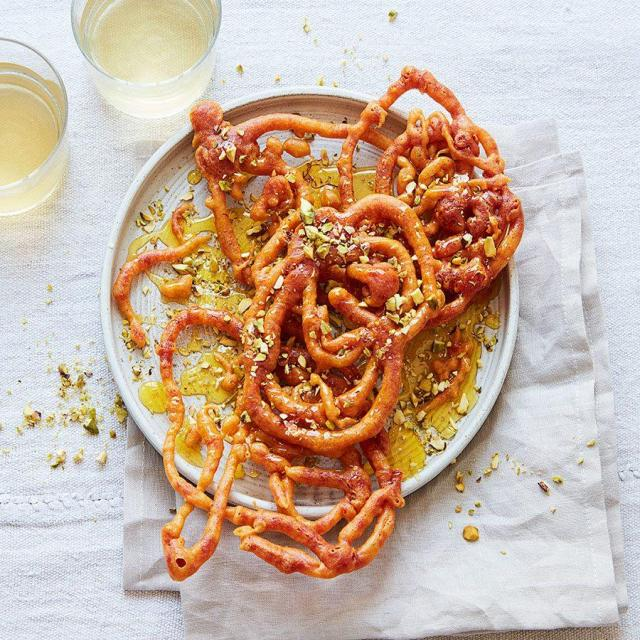jalebi: (153, 110, 523, 561)
